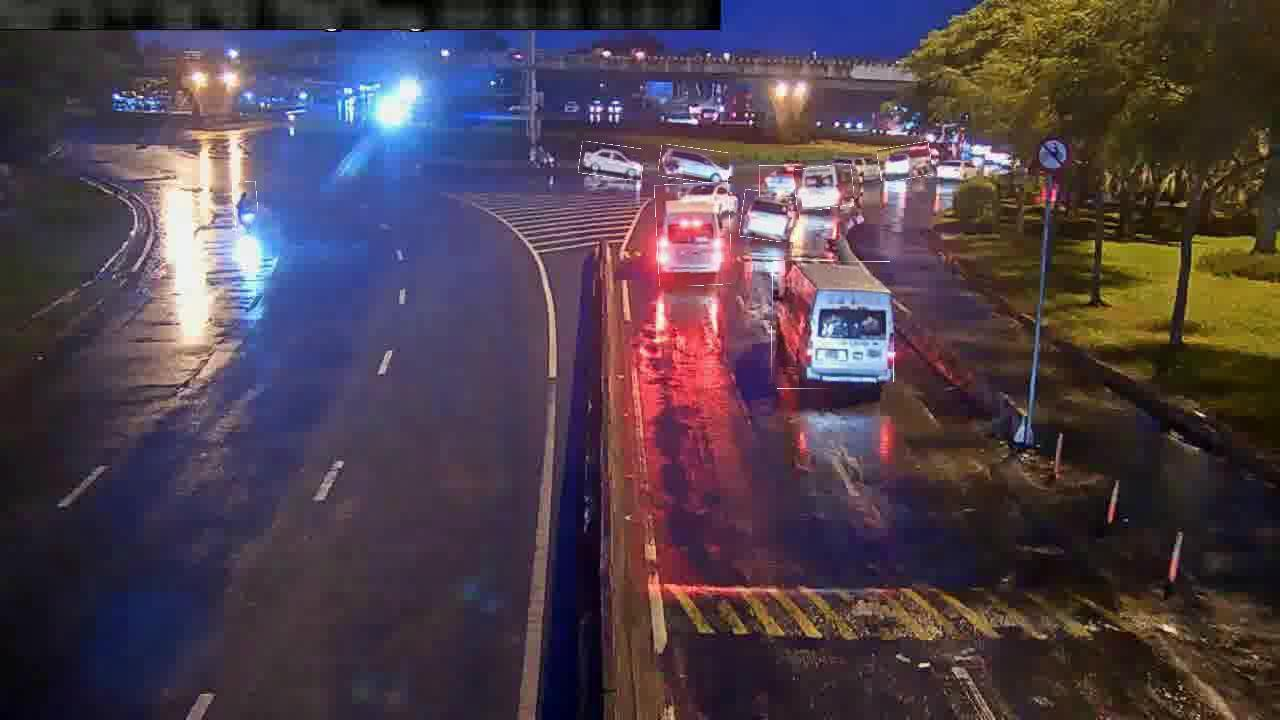14: (772, 260, 895, 390), (656, 183, 731, 287), (794, 166, 854, 210)
container: (741, 191, 800, 242), (659, 147, 731, 183), (579, 143, 644, 179), (878, 143, 932, 180), (759, 165, 802, 198)
motorbike: (233, 182, 258, 235)
